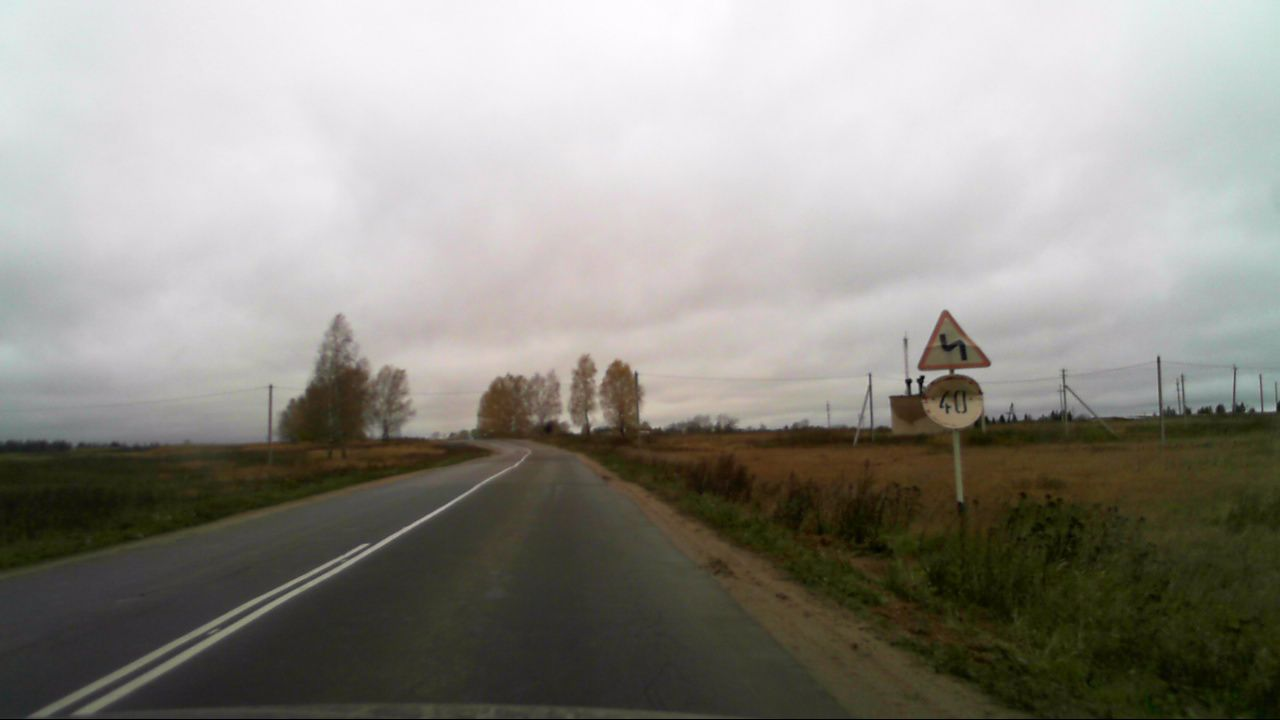speed_warning_40: (921, 373, 984, 429)
